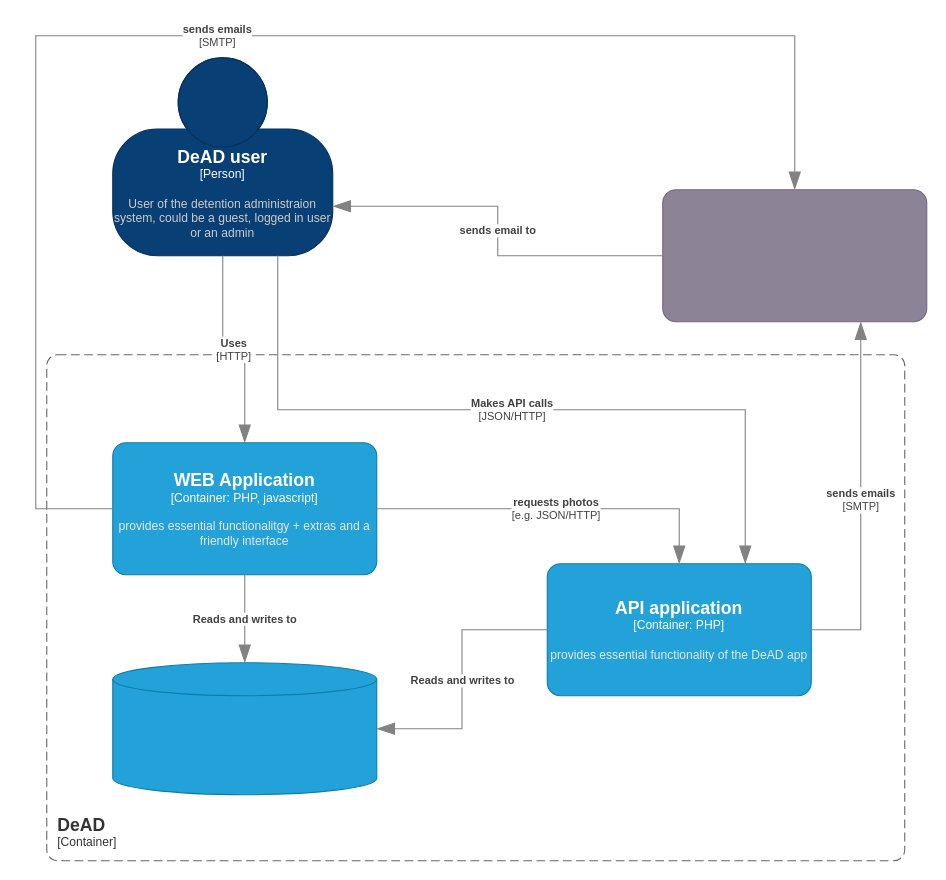
Some shapes in this 946 by 880 pixel diagram are drawn without their labels. The centre of each missing label's shape, as x and y in pixels:
"Database [Container: PostgreSQL] stores information" goes at [244,728].
"Email system [Software System] Google email system" goes at [794,255].
